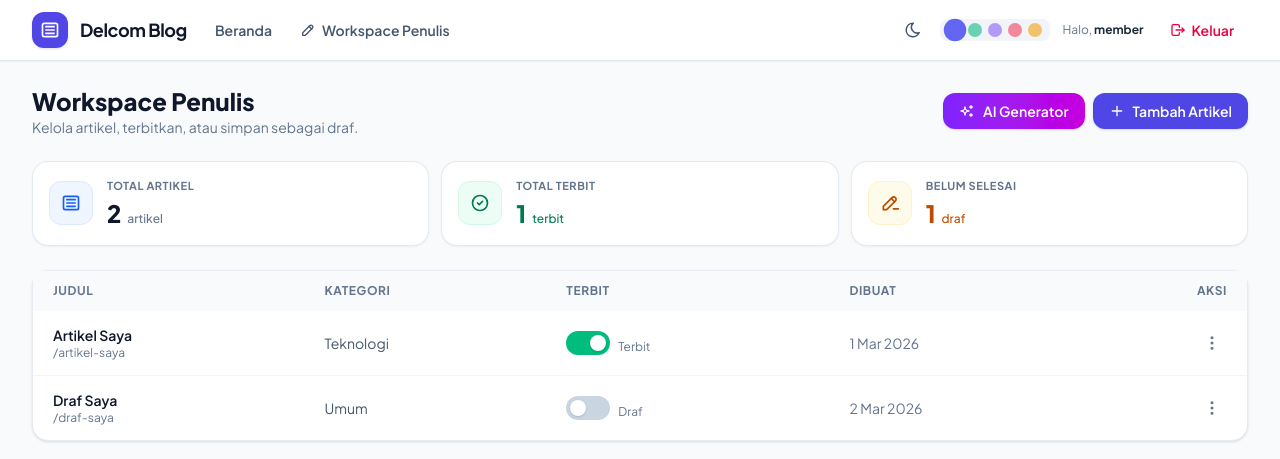
Test: App Integration › opens a published article from the kebab menu
The image size is (1280, 459).
Click the button with test id "kebab-1": coordinates (1212, 342) top-left (1197, 328), bottom-right (1227, 358)
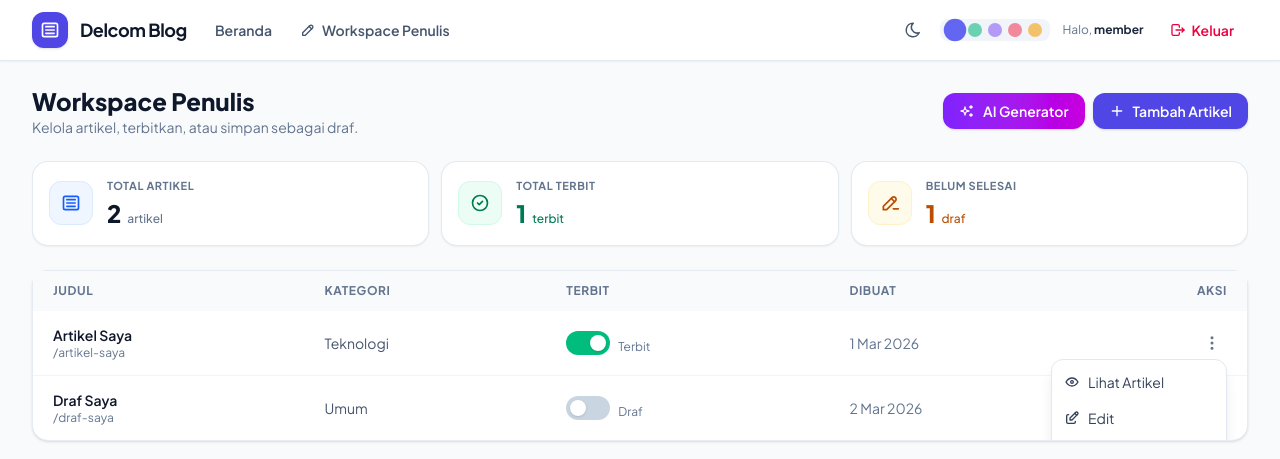
Click the button "Lihat Artikel": coordinates (1139, 382) top-left (1052, 364), bottom-right (1226, 400)
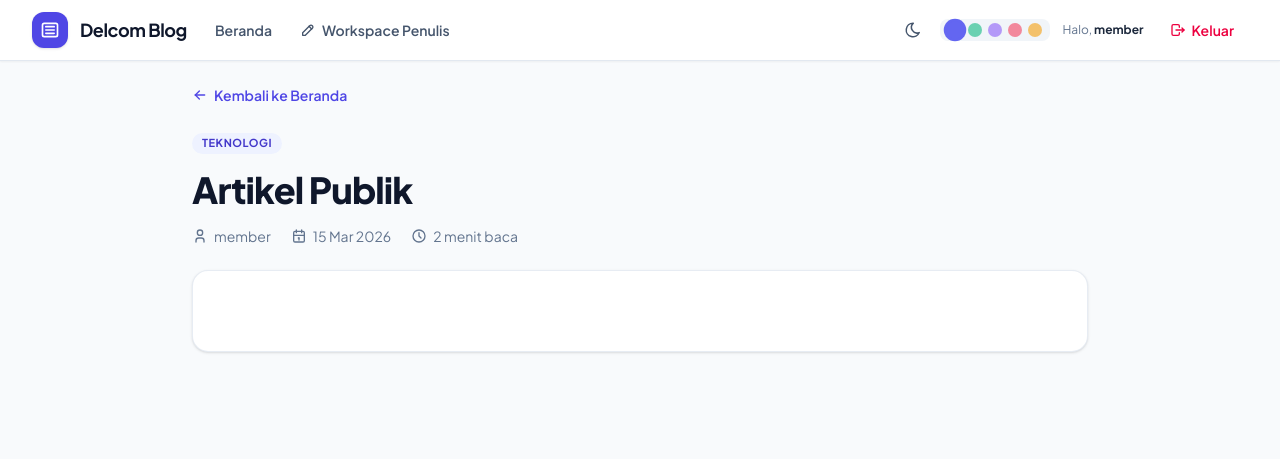
Check: the element with test id "public-article-detail" is shown, box top-left (192, 85), bottom-right (1088, 352)
